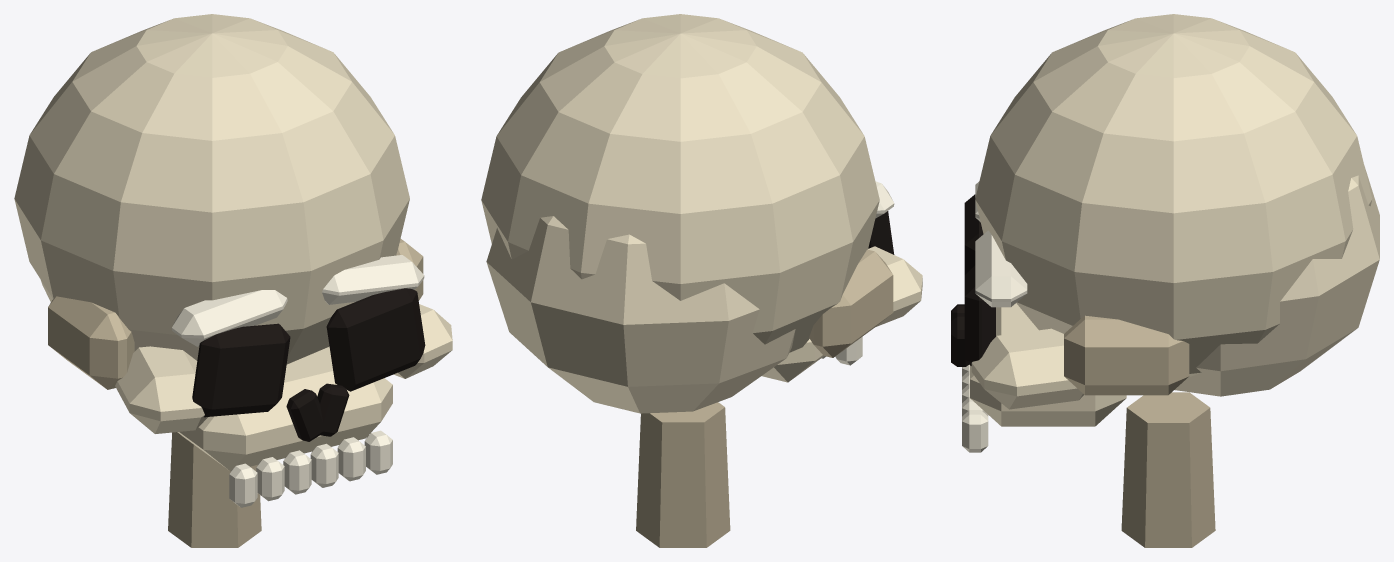
File: testa.glb
The picture shows the model from 3 angles, left to right: view 1: azimuth 30°, elevation 25°; view 2: azimuth 150°, elevation 25°; view 3: azimuth 270°, elevation 25°; orthographic projection.
Visible parts, largest first — view 1: testa2; view 2: testa2; view 3: testa2.
Part boxes in pixels (<box>): testa2: <box>14,14,452,547</box>; testa2: <box>481,14,922,547</box>; testa2: <box>951,14,1379,547</box>.
Bounding box in the file's own units: 0.38 × 0.525 × 0.4102.
